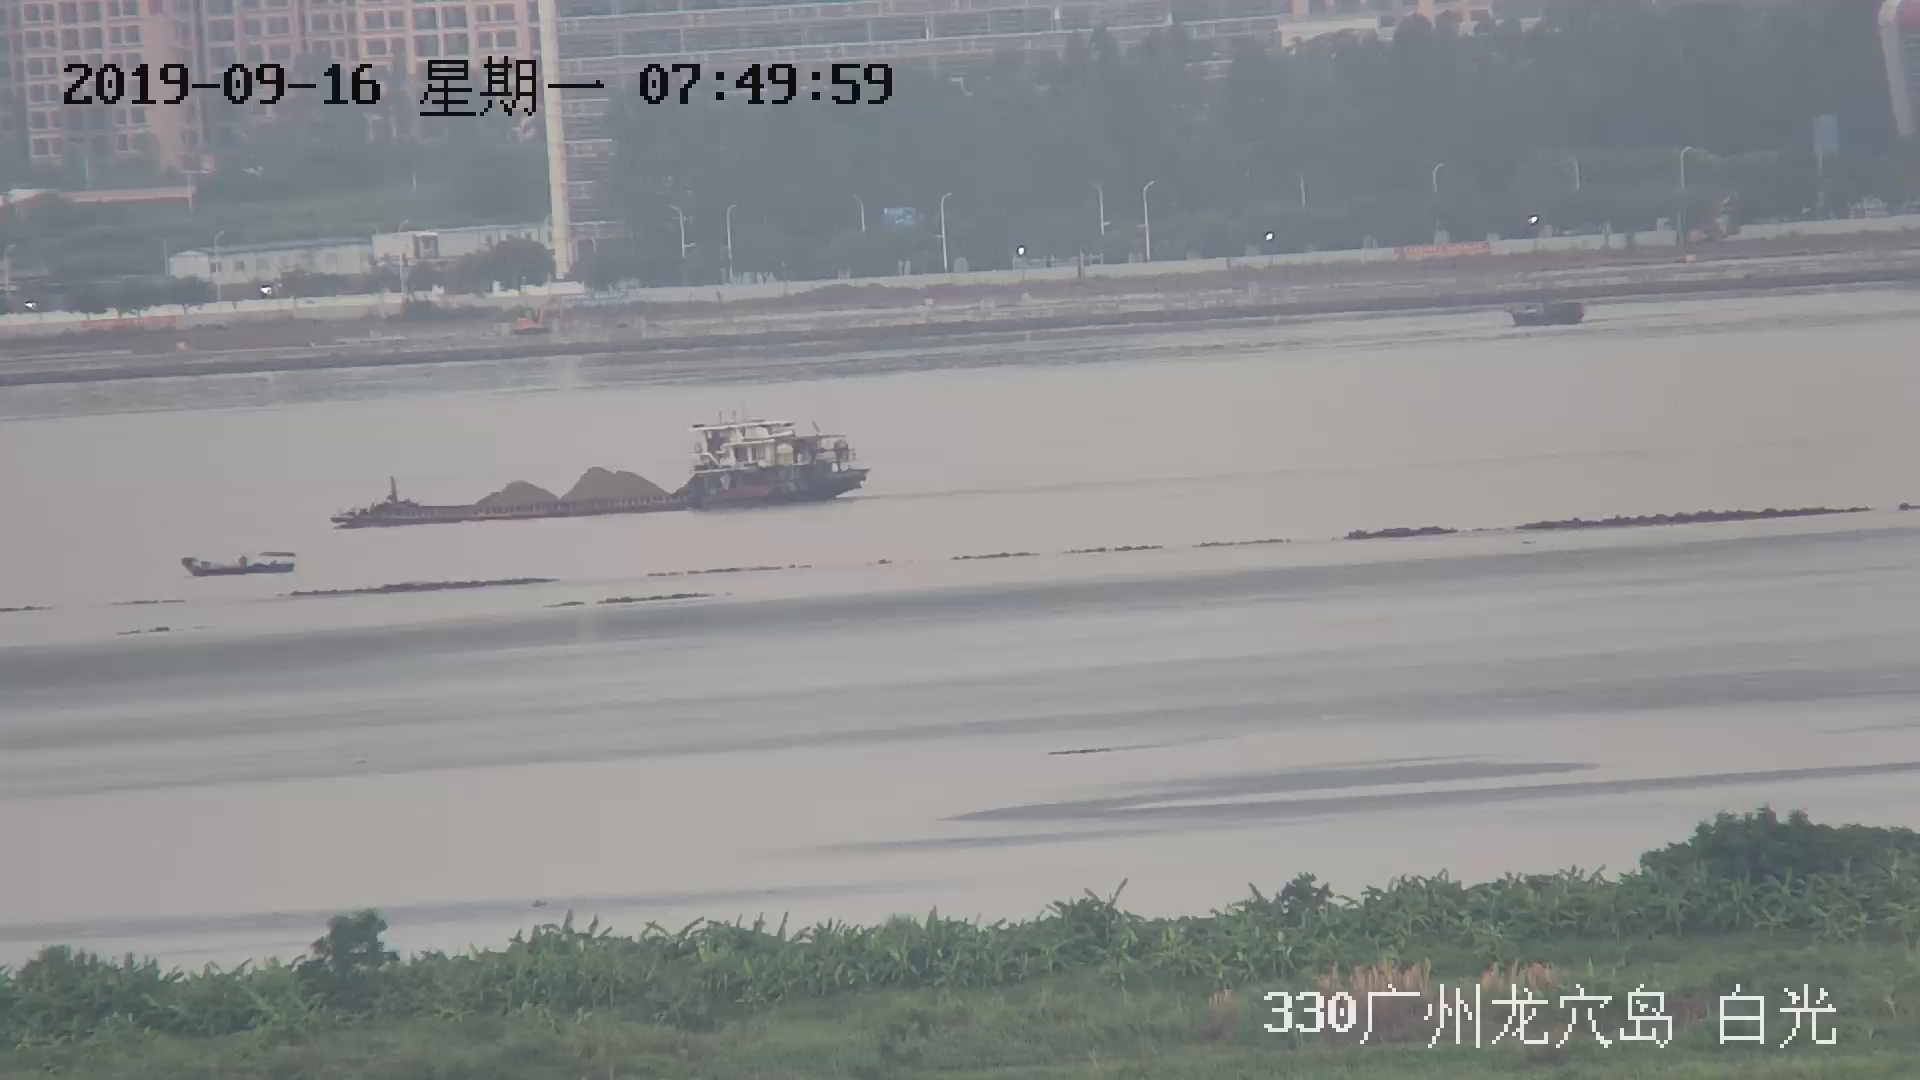ship: (335, 417, 866, 527), (179, 550, 299, 576), (1511, 295, 1589, 330)
